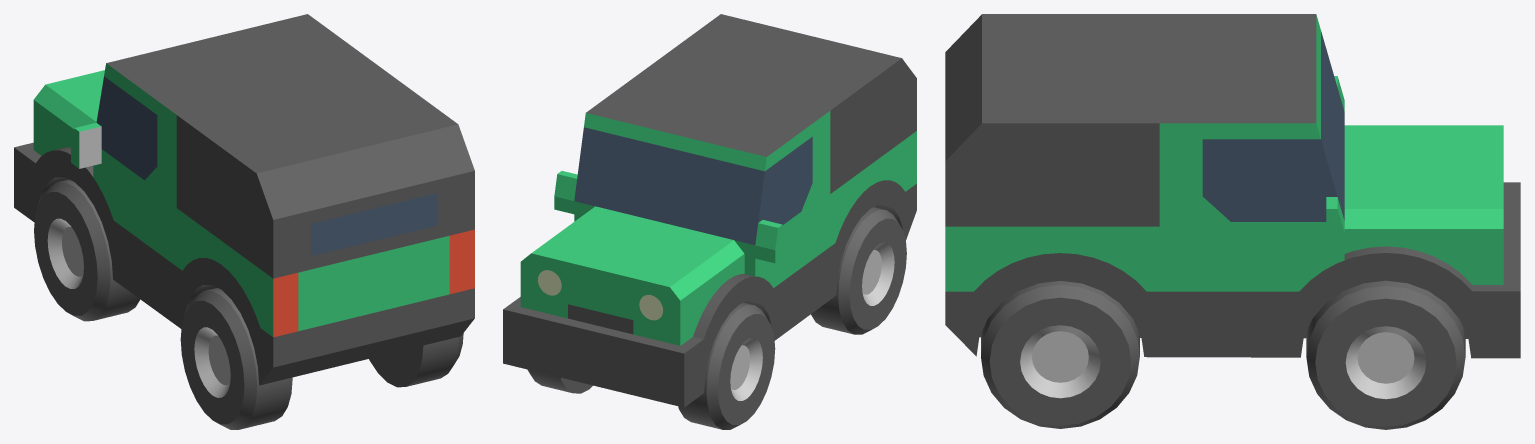
File: carJeep.fbx
3 views of the same model, side by side, from view 1: azimuth 30°, elevation 25°; view 2: azimuth 150°, elevation 25°; view 3: azimuth 270°, elevation 25° (orthographic). The views are drawn at different scales.
Parts seen in each view (by area): view 1: body 4, wheelBackLeft 4, wheelFrontLeft 4, wheelBackRight 4; view 2: body 4, wheelBackLeft 4, wheelFrontLeft 4, wheelFrontRight 4; view 3: body 4, wheelFrontRight 4, wheelBackRight 4.
Boxes of the visible parts, x1=… form: body 4: x1=14, y1=14, x2=474, y2=385; wheelBackLeft 4: x1=180, y1=287, x2=292, y2=429; wheelFrontLeft 4: x1=34, y1=179, x2=140, y2=321; wheelBackRight 4: x1=369, y1=333, x2=463, y2=387; body 4: x1=503, y1=14, x2=916, y2=407; wheelBackLeft 4: x1=811, y1=207, x2=906, y2=334; wheelFrontLeft 4: x1=678, y1=302, x2=775, y2=429; wheelFrontRight 4: x1=527, y1=369, x2=592, y2=393; body 4: x1=945, y1=14, x2=1520, y2=358; wheelFrontRight 4: x1=1306, y1=280, x2=1465, y2=429; wheelBackRight 4: x1=981, y1=281, x2=1139, y2=428.
Size of the model in its own units: 5.55 by 5.99 by 10.13.
